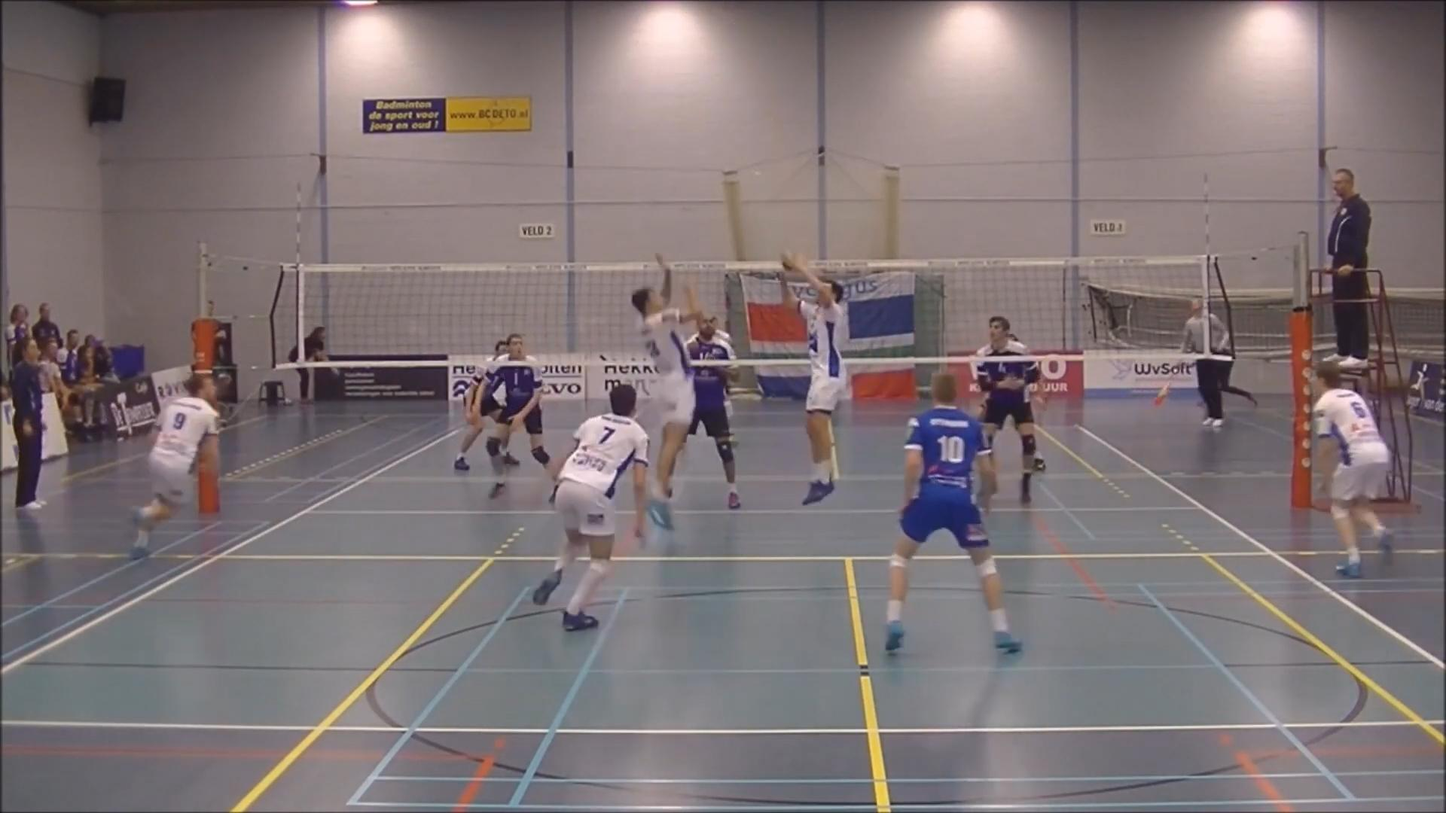Attack: (638, 250, 714, 516)
Player: (885, 373, 1021, 653), (532, 385, 648, 630), (130, 373, 219, 559), (1314, 361, 1390, 577), (974, 316, 1039, 503), (484, 333, 557, 479), (688, 365, 740, 509), (454, 340, 505, 470), (712, 317, 731, 350), (1033, 444, 1046, 472)
Set: (779, 253, 855, 509)
ball: (774, 247, 800, 278)
